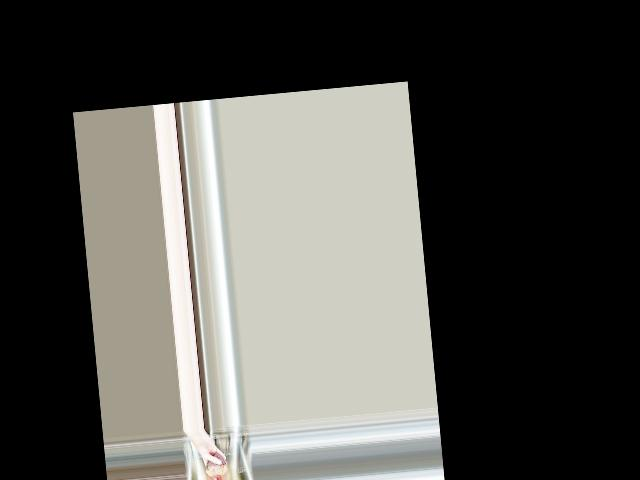beet: (204, 451, 230, 480)
